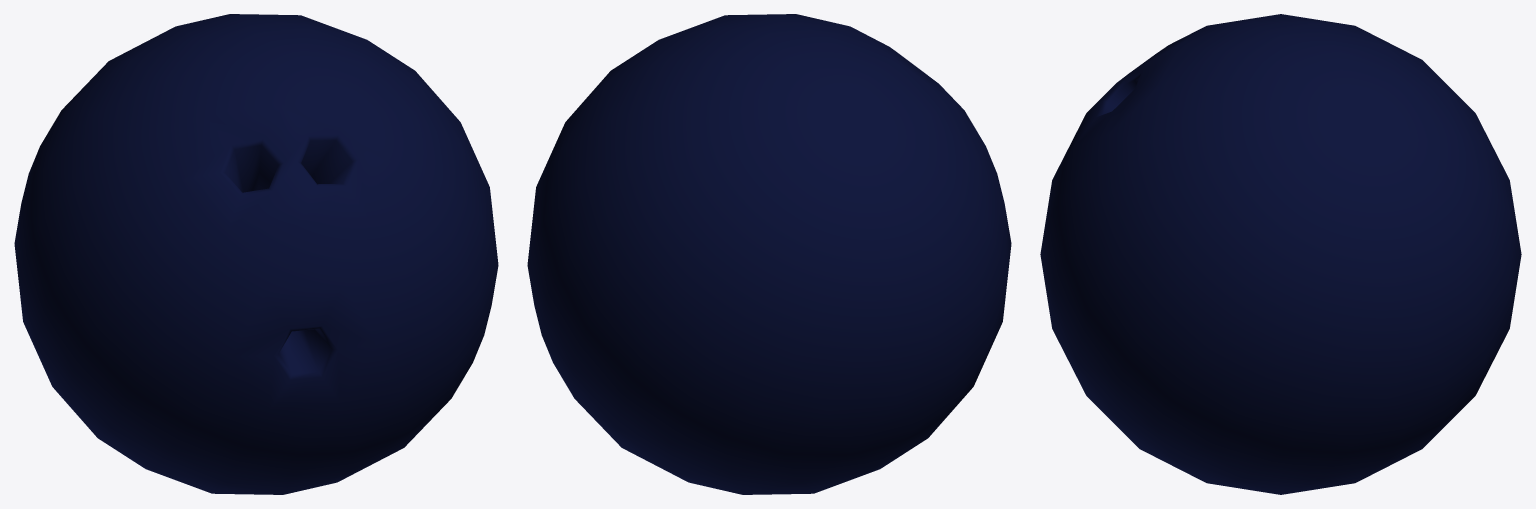
The model's file is BowlingBall.gltf.
3 renders of one model, left to right at view 1: azimuth 30°, elevation 25°; view 2: azimuth 150°, elevation 25°; view 3: azimuth 270°, elevation 25°, orthographic.
Visible parts, largest first — view 1: Icosphere; view 2: Icosphere; view 3: Icosphere.
Boxes of the visible parts, left/top/right/bottom form: Icosphere: left=14, top=14, right=498, bottom=494; Icosphere: left=527, top=14, right=1011, bottom=494; Icosphere: left=1040, top=14, right=1521, bottom=494.
Size of the model in its own units: 0.28 by 0.28 by 0.28.
